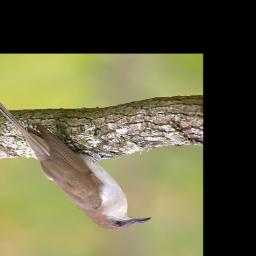Cuckoo: (0, 84, 153, 232)
